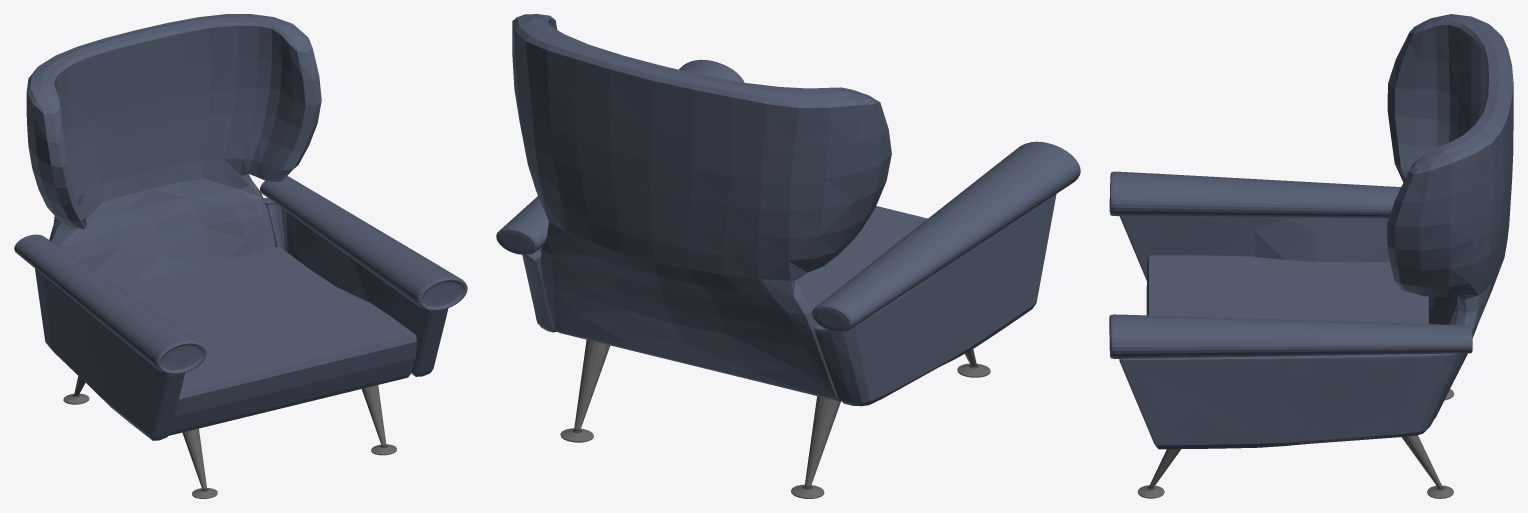
Rendered from sh-scopia-armchair.glb.
3 renders of one model, left to right at view 1: azimuth 30°, elevation 25°; view 2: azimuth 150°, elevation 25°; view 3: azimuth 270°, elevation 25°, orthographic. The views are drawn at different scales.
Parts seen in each view (by area): view 1: sillon_orejas.001_Cub, sillonrejas_pot.0; view 2: sillon_orejas.001_Cub, sillonrejas_pot.0; view 3: sillon_orejas.001_Cub, sillonrejas_pot.0.
Boxes of the visible parts, <box> form: sillon_orejas.001_Cub: <box>14,14,467,440</box>; sillonrejas_pot.0: <box>63,376,396,498</box>; sillon_orejas.001_Cub: <box>496,14,1080,406</box>; sillonrejas_pot.0: <box>560,340,990,498</box>; sillon_orejas.001_Cub: <box>1109,14,1513,449</box>; sillonrejas_pot.0: <box>1137,389,1454,498</box>.
Size of the model in its own units: 1 by 1 by 1.
